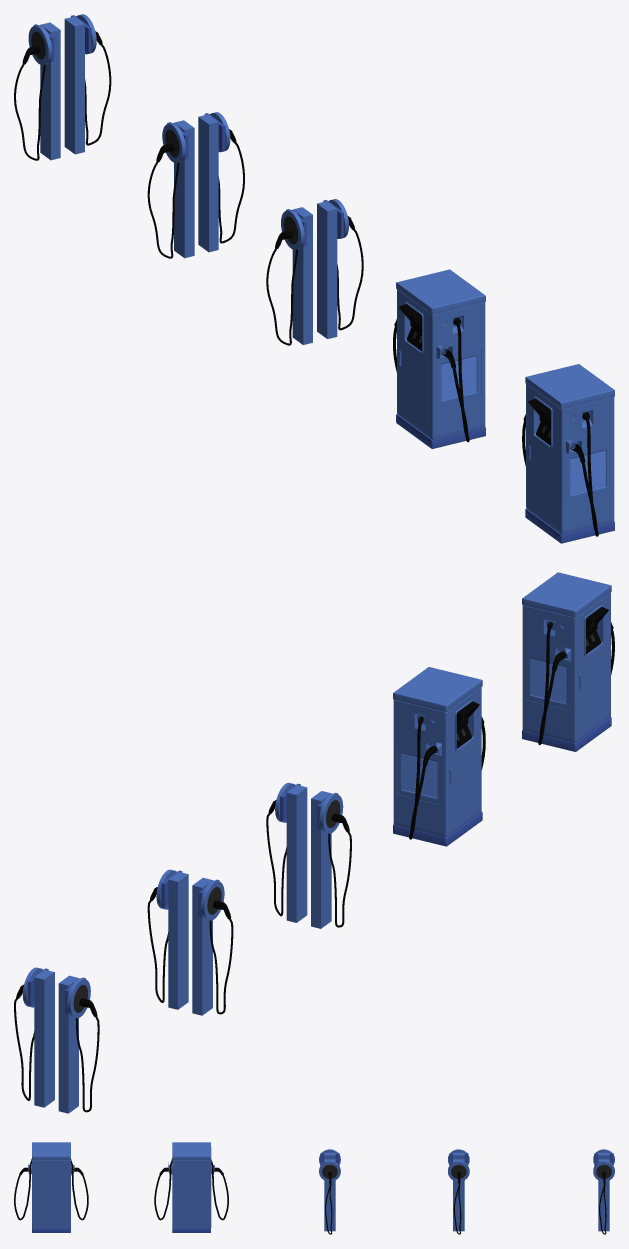
3 renders of one model, top to bottom at view 1: azimuth 30°, elevation 25°; view 2: azimuth 150°, elevation 25°; view 3: azimuth 270°, elevation 25°, orthographic. The views are drawn at different scales.
Parts seen in each view (by area): view 1: Obj3d66-9818666-28-552.001, Obj3d66-9818666-28-552, Obj3d66-9818666-1-175, Obj3d66-9818666-1-175.001, Cube.048, Cube.052, Cube.044, Obj3d66-9818666-2-801.001, Obj3d66-9818666-2-801, Cube.046, Cube.050, Cube.042 (+6 smaller); view 2: Obj3d66-9818666-18-695, Obj3d66-9818666-1-175.001, Obj3d66-9818666-1-175, Obj3d66-9818666-18-695.001, Cube.044, Cube.052, Cube.048, Obj3d66-9818666-2-801.001, Obj3d66-9818666-2-801, Cube.046, Cube.050, Cube.042 (+6 smaller); view 3: Obj3d66-9818666-18-695.001, Obj3d66-9818666-18-695, Obj3d66-9818666-2-801.001, Obj3d66-9818666-2-801, Cube.044, Cube.052, Cube.048, Circle.005, Circle.001, Circle.003, Obj3d66-9818666-15-250, Obj3d66-9818666-30-9.001 (+7 smaller).
Boxes of the visible parts, x1=… form: Obj3d66-9818666-28-552.001: x1=433, y1=302, x2=485, y2=439; Obj3d66-9818666-28-552: x1=562, y1=397, x2=614, y2=534; Obj3d66-9818666-1-175: x1=526, y1=384, x2=562, y2=534; Obj3d66-9818666-1-175.001: x1=397, y1=289, x2=433, y2=439; Cube.048: x1=198, y1=114, x2=218, y2=252; Cube.052: x1=64, y1=16, x2=84, y2=154; Cube.044: x1=317, y1=201, x2=337, y2=338; Obj3d66-9818666-2-801.001: x1=396, y1=269, x2=485, y2=314; Obj3d66-9818666-2-801: x1=525, y1=364, x2=614, y2=409; Cube.046: x1=174, y1=120, x2=194, y2=258; Cube.050: x1=40, y1=22, x2=60, y2=160; Cube.042: x1=292, y1=207, x2=312, y2=344; Obj3d66-9818666-18-695: x1=522, y1=605, x2=574, y2=742; Obj3d66-9818666-1-175.001: x1=445, y1=687, x2=481, y2=837; Obj3d66-9818666-1-175: x1=574, y1=592, x2=610, y2=742; Obj3d66-9818666-18-695.001: x1=393, y1=699, x2=445, y2=837; Cube.044: x1=286, y1=785, x2=307, y2=922; Cube.052: x1=34, y1=969, x2=54, y2=1107; Cube.048: x1=168, y1=872, x2=188, y2=1009; Obj3d66-9818666-2-801.001: x1=393, y1=667, x2=482, y2=712; Obj3d66-9818666-2-801: x1=522, y1=572, x2=611, y2=617; Cube.046: x1=192, y1=877, x2=212, y2=1015; Cube.050: x1=58, y1=975, x2=78, y2=1113; Cube.042: x1=311, y1=791, x2=331, y2=928; Obj3d66-9818666-18-695.001: x1=173, y1=1147, x2=211, y2=1227; Obj3d66-9818666-18-695: x1=33, y1=1160, x2=70, y2=1227; Obj3d66-9818666-2-801.001: x1=172, y1=1142, x2=210, y2=1159; Obj3d66-9818666-2-801: x1=32, y1=1142, x2=70, y2=1159; Cube.044: x1=324, y1=1159, x2=335, y2=1231; Cube.052: x1=598, y1=1159, x2=609, y2=1231; Cube.048: x1=453, y1=1159, x2=464, y2=1231; Circle.005: x1=593, y1=1161, x2=614, y2=1181; Circle.001: x1=319, y1=1161, x2=340, y2=1181; Circle.003: x1=448, y1=1161, x2=469, y2=1181; Obj3d66-9818666-15-250: x1=71, y1=1161, x2=88, y2=1220; Obj3d66-9818666-30-9.001: x1=154, y1=1161, x2=172, y2=1220.
Size of the model in its own units: 0.389 by 0.5889 by 4.14.
